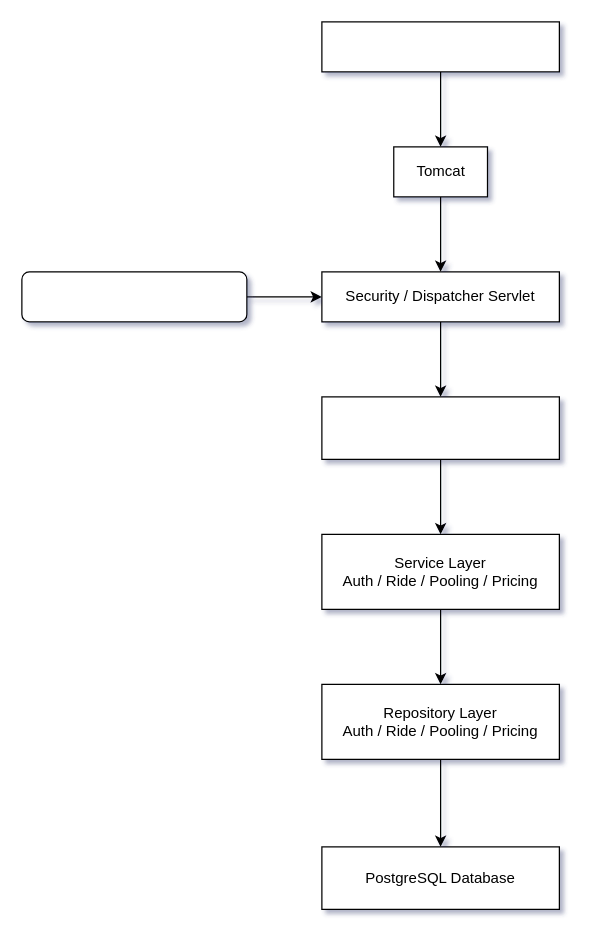
This 589x939 diagram has some shape labels left out. Here are the shapes that lost their labels. From the top down, the centre of each, then its label:
pixel 440 46: Client / Postman / Swagger
pixel 134 296: Spring Security + JWT Filter
pixel 440 427: Controllers Auth / Ride / Pool / Price
